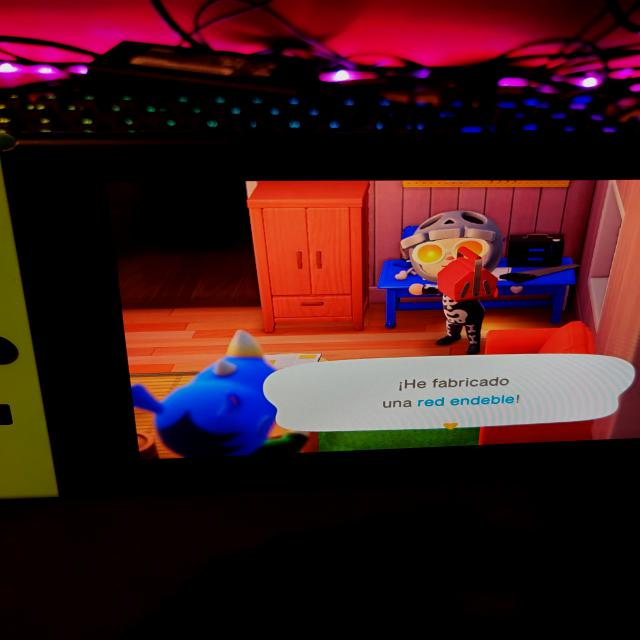text_bubble: (261, 352, 638, 433)
